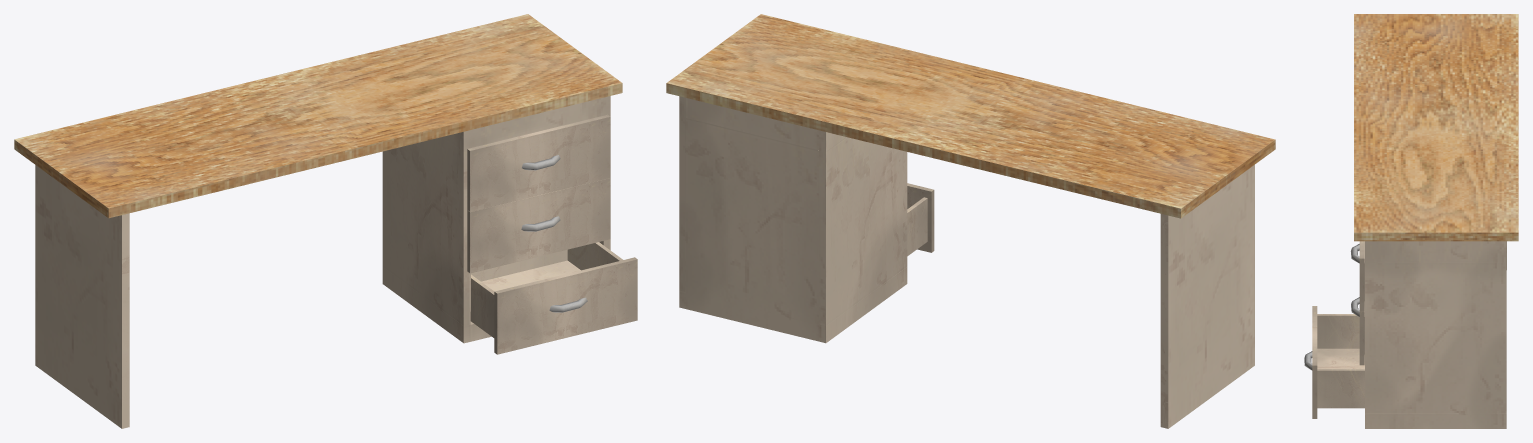
The model's file is Desk1_Drawer3_OPEN.fbx.
3 views of the same model, side by side, from view 1: azimuth 30°, elevation 25°; view 2: azimuth 150°, elevation 25°; view 3: azimuth 270°, elevation 25° (orthographic). The views are drawn at different scales.
Parts seen in each view (by area): view 1: Desk, polySurface54, polySurface46, polySurface50; view 2: Desk, polySurface54; view 3: Desk, polySurface54, polySurface46, polySurface50.
Boxes of the visible parts, x1,y1,x2,y2 form: Desk: (14,14,622,428); polySurface54: (470,242,637,354); polySurface46: (467,114,610,211); polySurface50: (467,178,610,273); Desk: (666,14,1275,428); polySurface54: (907,183,934,256); Desk: (1354,14,1518,428); polySurface54: (1304,306,1364,418); polySurface46: (1350,241,1364,311); polySurface50: (1351,297,1364,365).
Size of the model in its own units: 8.44 by 3.57 by 3.5.
1 material, 1 textured.
